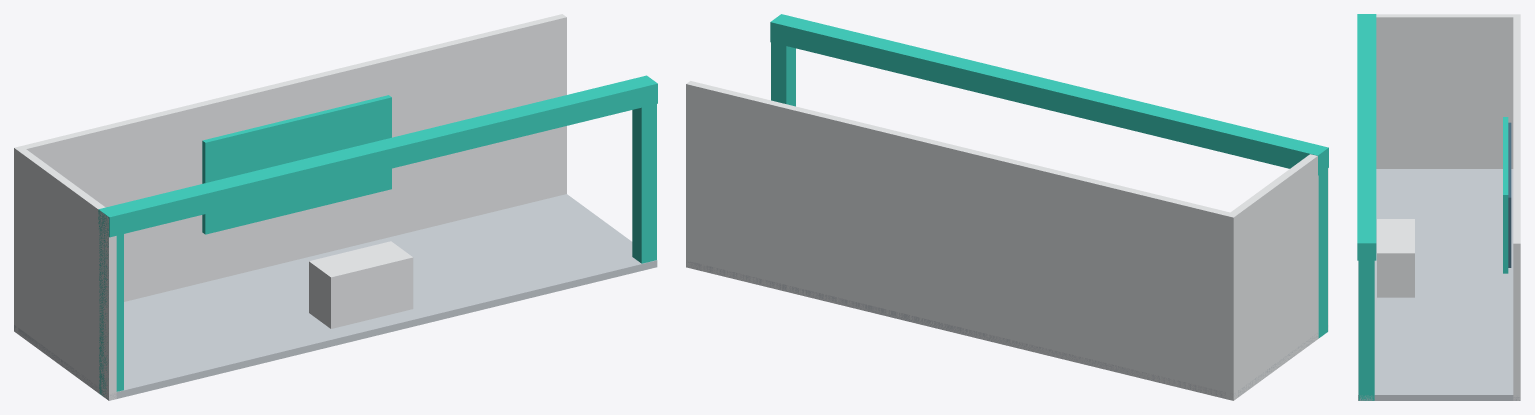
3 renders of one model, left to right at view 1: azimuth 30°, elevation 25°; view 2: azimuth 150°, elevation 25°; view 3: azimuth 270°, elevation 25°, orthographic. The views are drawn at different scales.
Parts seen in each view (by area): view 1: Exhibition Booth Concept; view 2: Exhibition Booth Concept; view 3: Exhibition Booth Concept.
Boxes of the visible parts, x1=… form: Exhibition Booth Concept: x1=14, y1=14, x2=657, y2=400; Exhibition Booth Concept: x1=686, y1=14, x2=1328, y2=400; Exhibition Booth Concept: x1=1357, y1=14, x2=1520, y2=400.
Size of the model in its own units: 10 by 3.2 by 3.01.
